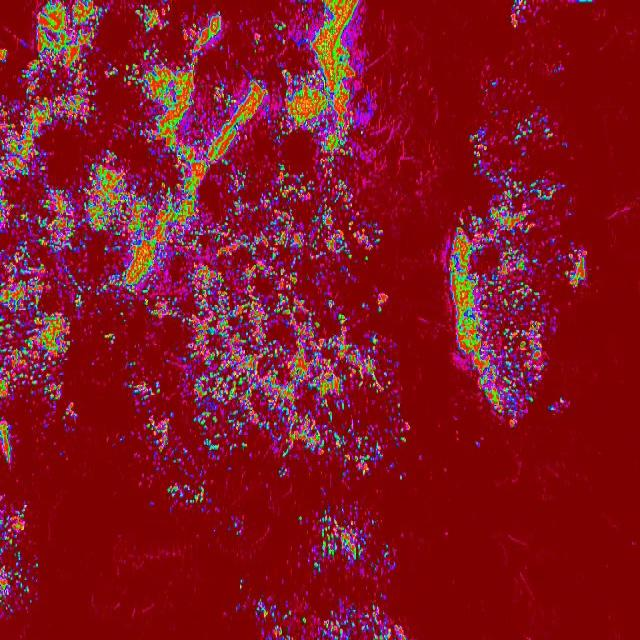fire: (0, 0, 390, 308), (123, 307, 408, 475), (446, 207, 544, 423), (464, 113, 567, 207), (0, 308, 79, 417), (242, 596, 408, 640), (310, 508, 393, 576), (0, 504, 46, 618), (166, 475, 210, 514), (564, 241, 592, 293), (0, 418, 16, 470), (509, 0, 528, 24)
